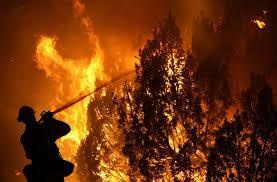fire: (28, 20, 262, 177), (249, 13, 267, 29)
